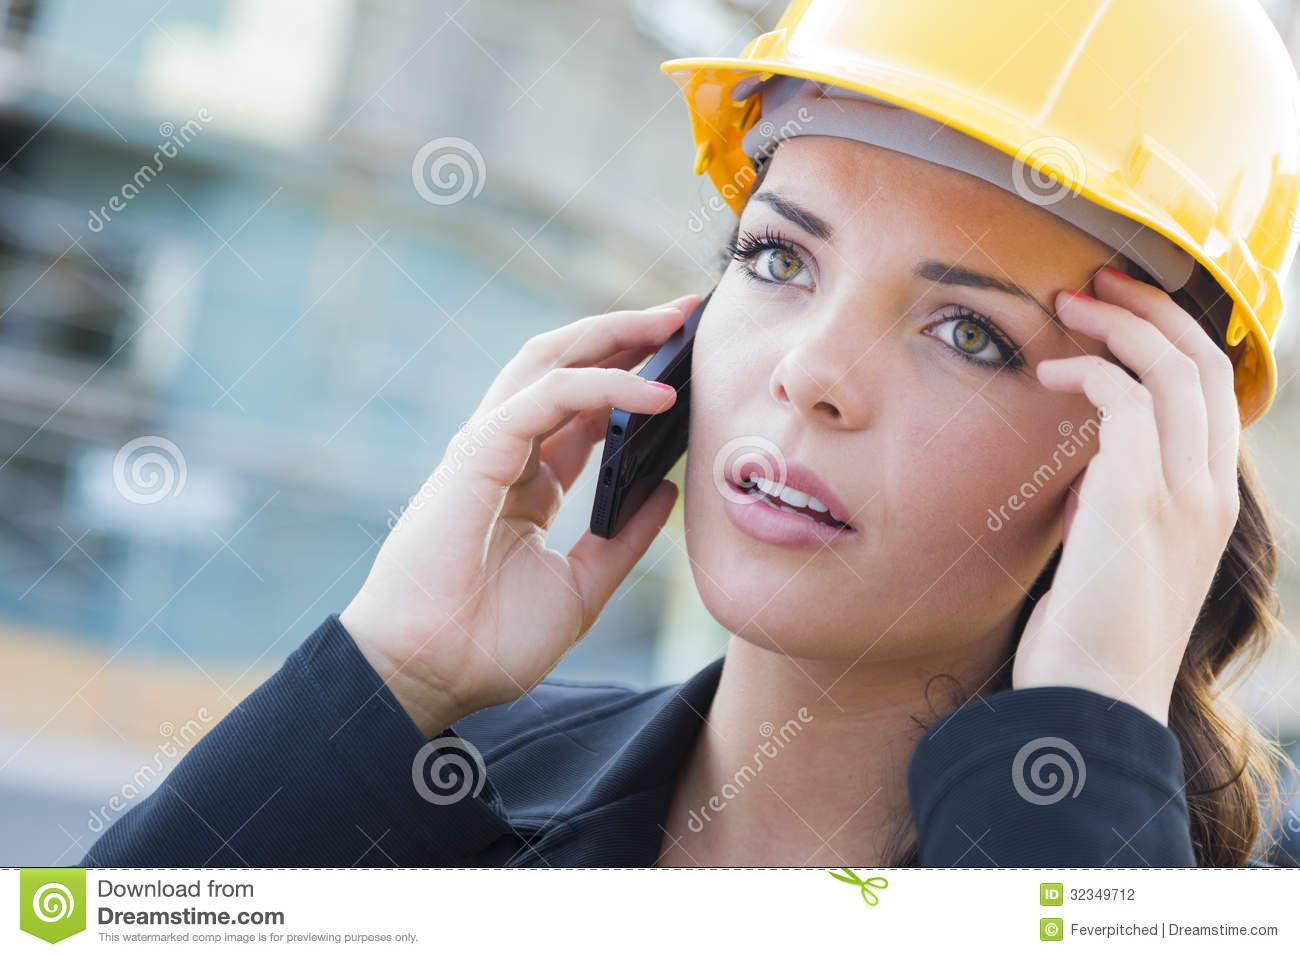helmet: (640, 1, 1300, 402)
